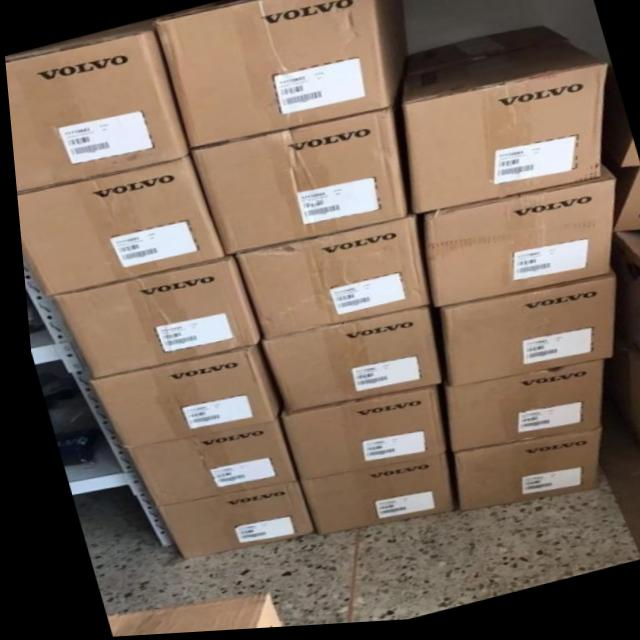box: (400, 30, 605, 217), (154, 0, 407, 149), (190, 110, 401, 258), (4, 30, 189, 192), (14, 158, 220, 299), (419, 171, 610, 313), (45, 256, 256, 380), (232, 219, 424, 343), (84, 345, 272, 450), (434, 281, 609, 391), (253, 310, 435, 415), (273, 389, 439, 484), (441, 365, 599, 457), (118, 422, 287, 508), (292, 458, 446, 539), (149, 483, 305, 561), (445, 437, 594, 517), (95, 595, 271, 637), (611, 237, 640, 365), (619, 358, 640, 464), (611, 177, 640, 238), (619, 147, 637, 173)
